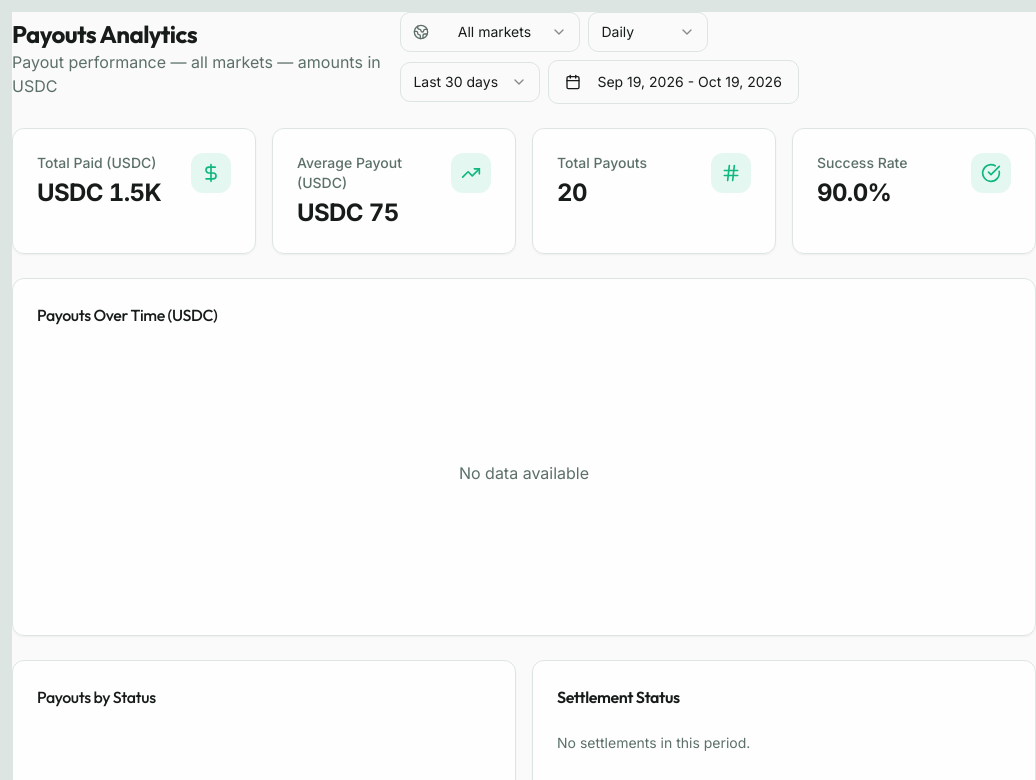
it: PayoutsAnalyticsPage › offers "All markets" and keeps it on reload
The image size is (1036, 780).
Check: the text "USDC 1.5K" is shown, box [37,177,161,209]
Step 1. Click the dropdown named "select market" → [490, 32], box [400,12,580,52]
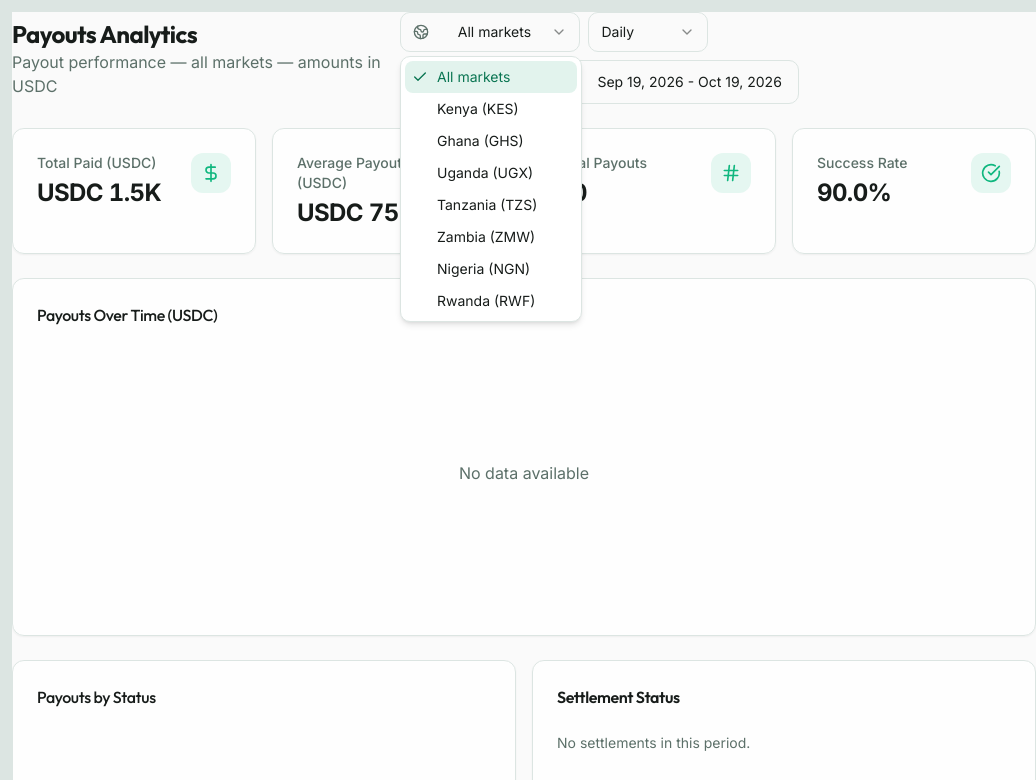
Check: the option "All markets" is shown, box [405,61,577,93]
Check: the option "Ghana (GHS)" is shown, box [437,132,524,149]
